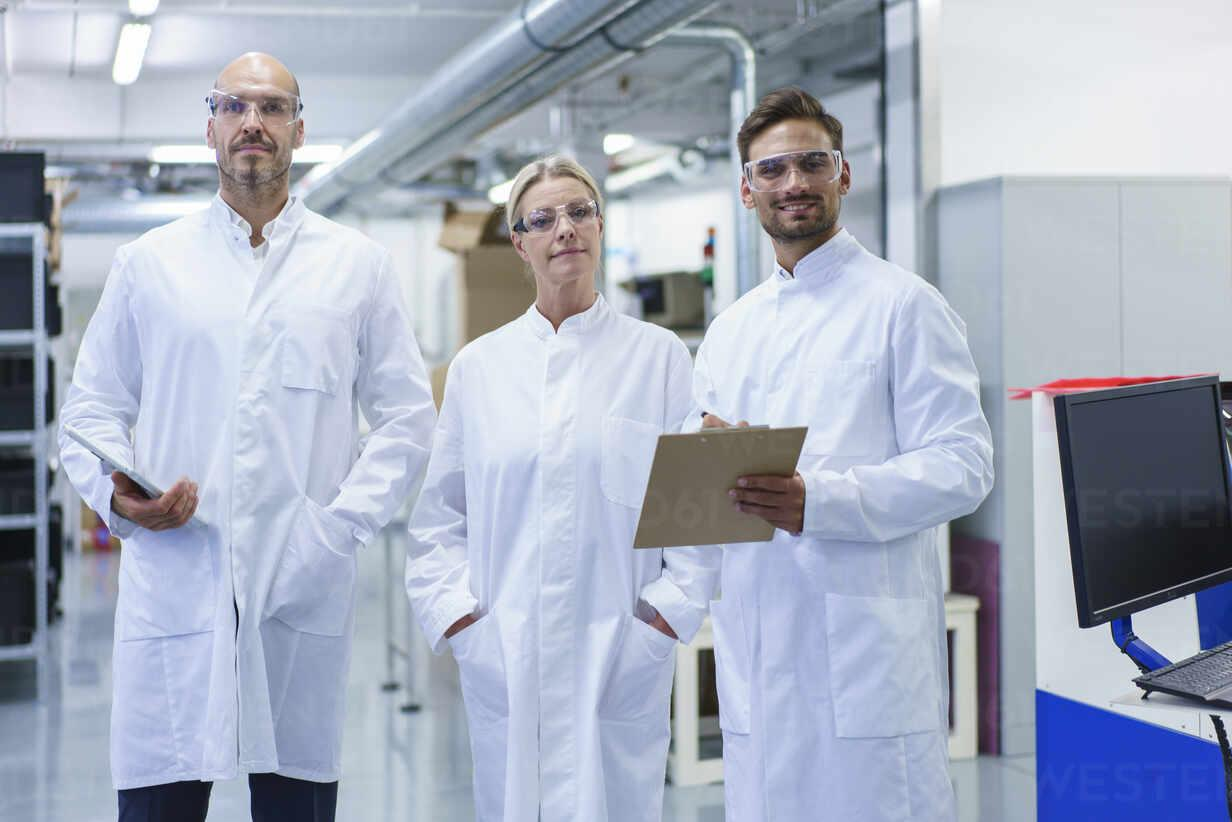Bata-Correcta: (59, 53, 433, 821), (689, 88, 991, 821), (406, 157, 711, 821)
